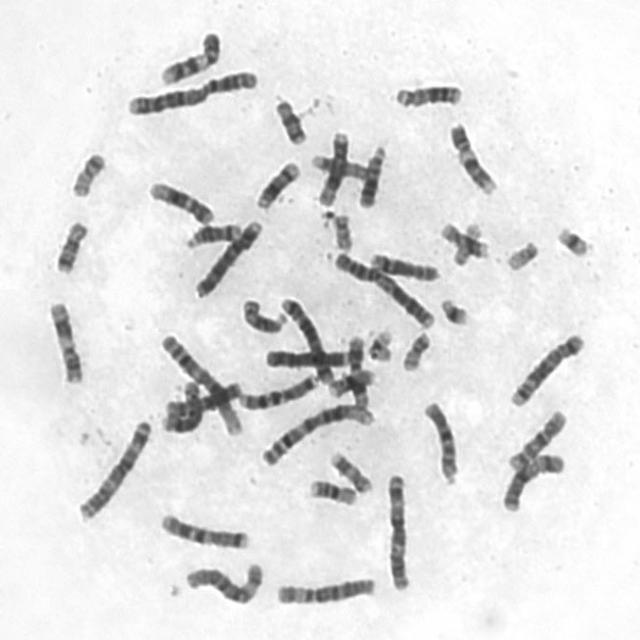A1: (154, 329, 245, 437), (255, 396, 378, 469)
A2: (328, 245, 438, 331), (120, 62, 260, 118)
A3: (71, 411, 154, 523), (380, 468, 412, 592)
B4: (189, 213, 264, 299), (259, 341, 355, 369)
B5: (504, 326, 587, 409), (274, 290, 335, 387)
C10: (502, 404, 569, 472), (418, 394, 461, 485)
C11: (43, 295, 85, 386), (343, 330, 371, 410)
C12: (142, 173, 216, 226), (312, 126, 352, 207)
C6: (180, 556, 265, 606), (270, 570, 378, 608)
C7: (154, 506, 252, 551), (232, 368, 320, 412)
C8: (156, 374, 205, 434), (365, 246, 442, 283)
C9: (443, 115, 499, 197), (154, 23, 224, 87)
D13: (352, 138, 389, 209), (388, 76, 464, 110)
D14: (250, 154, 302, 211), (180, 216, 244, 250)
D15: (306, 147, 371, 183), (240, 296, 289, 336)
E16: (323, 363, 377, 399), (303, 473, 359, 507)
E17: (434, 216, 492, 260), (324, 445, 375, 495)
E18: (49, 213, 90, 276), (269, 91, 309, 146)
F19: (447, 216, 485, 266), (364, 327, 395, 363)
F20: (64, 145, 108, 199), (396, 324, 432, 372)
G21: (550, 218, 594, 260), (434, 292, 472, 328)
G22: (500, 234, 541, 272), (327, 207, 354, 252)
X: (495, 446, 568, 513), (157, 374, 244, 420)
